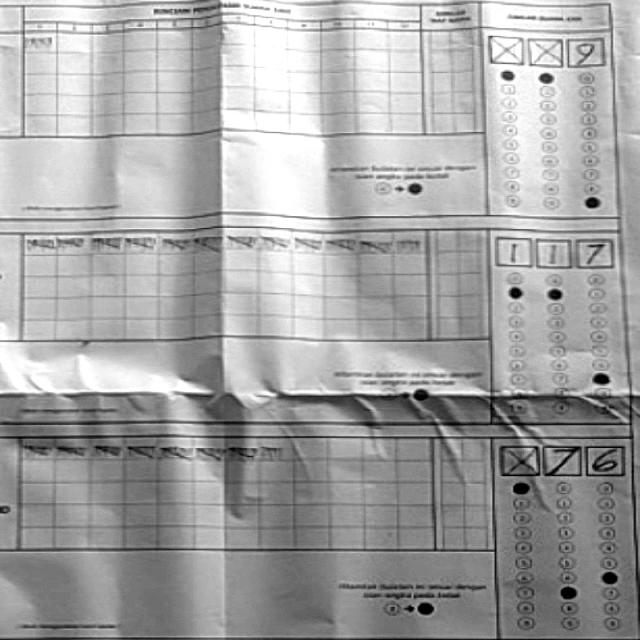Suara: (493, 230, 617, 271), (498, 438, 627, 476), (486, 28, 606, 68)
